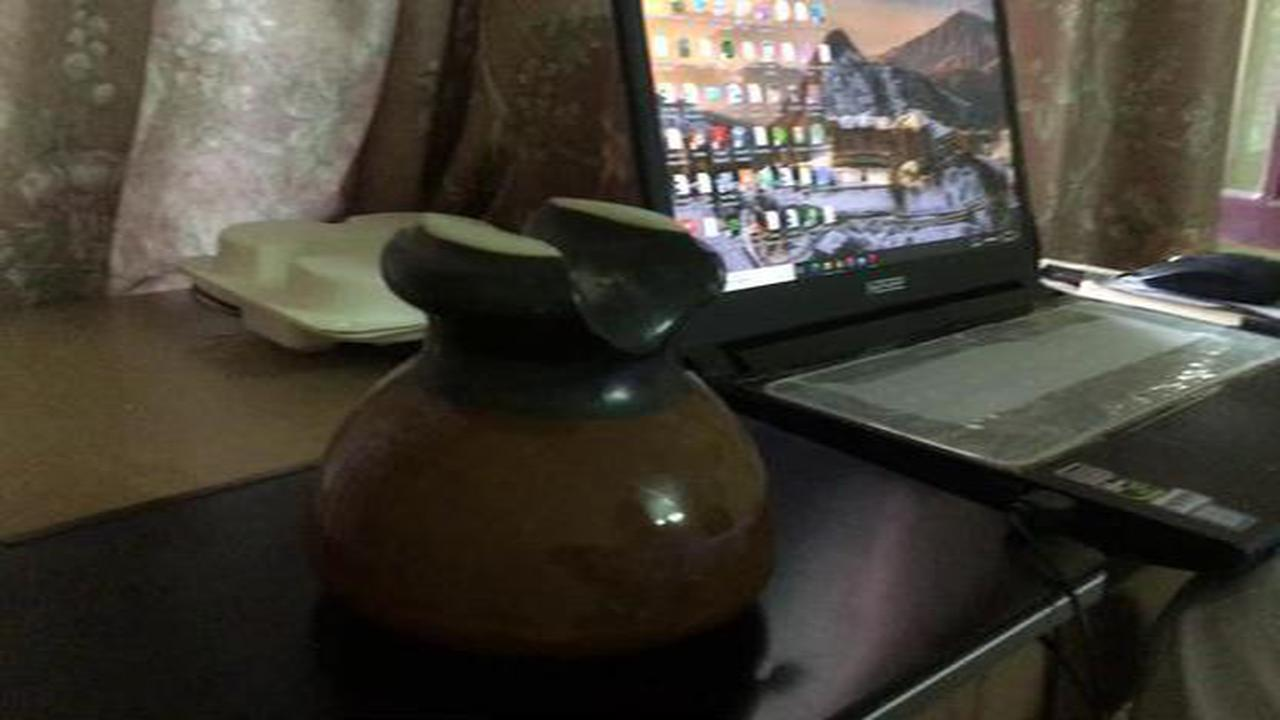insulator_pin: (290, 177, 801, 669)
